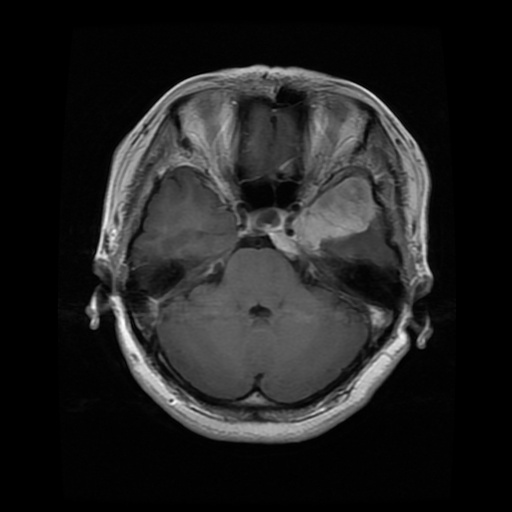meningioma: (268, 177, 381, 254)
